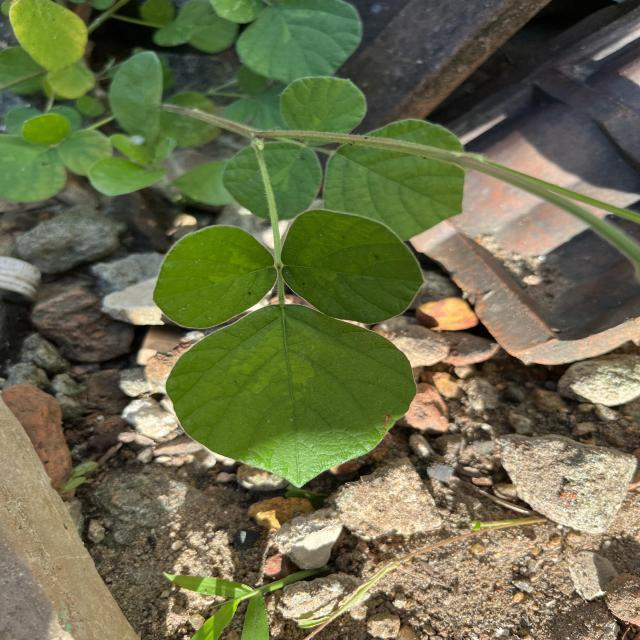Pseudarthria viscida: (151, 205, 433, 494)
